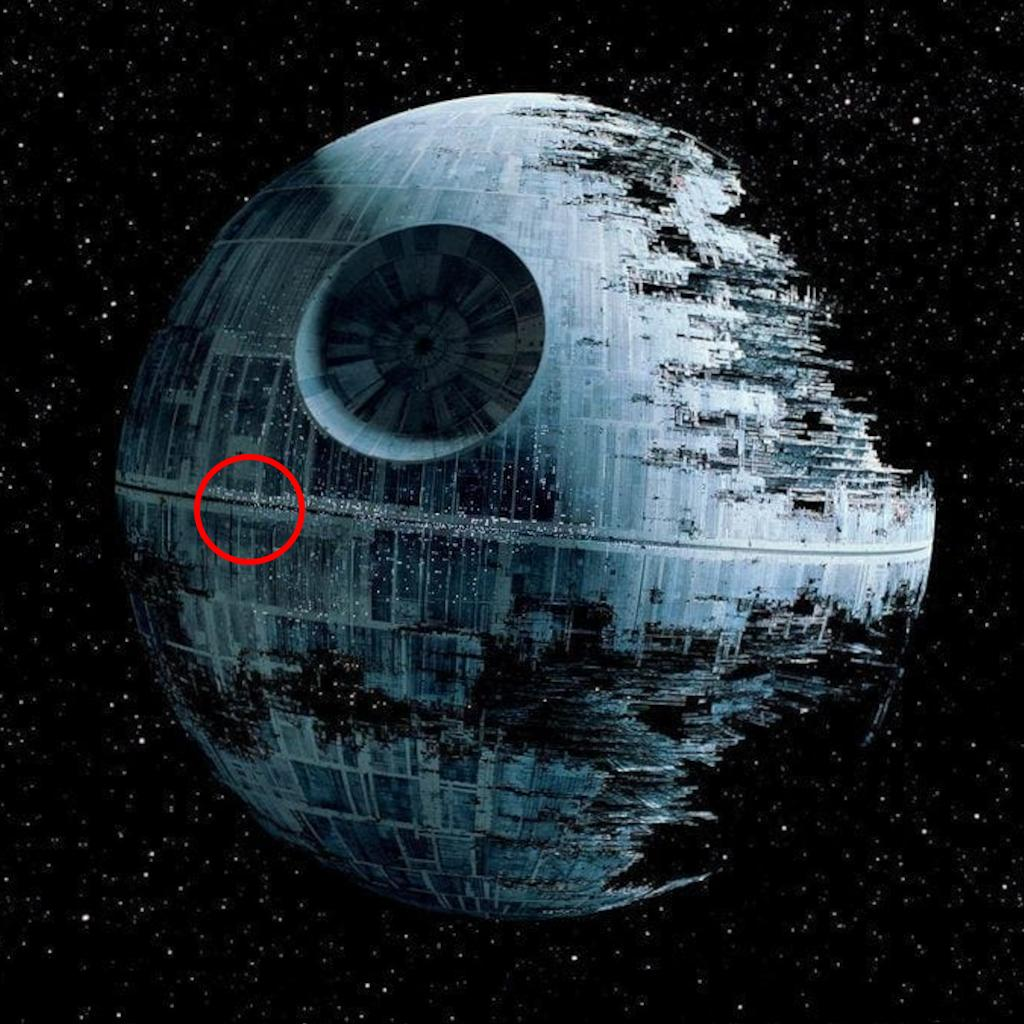Death-star: (109, 94, 937, 929)
